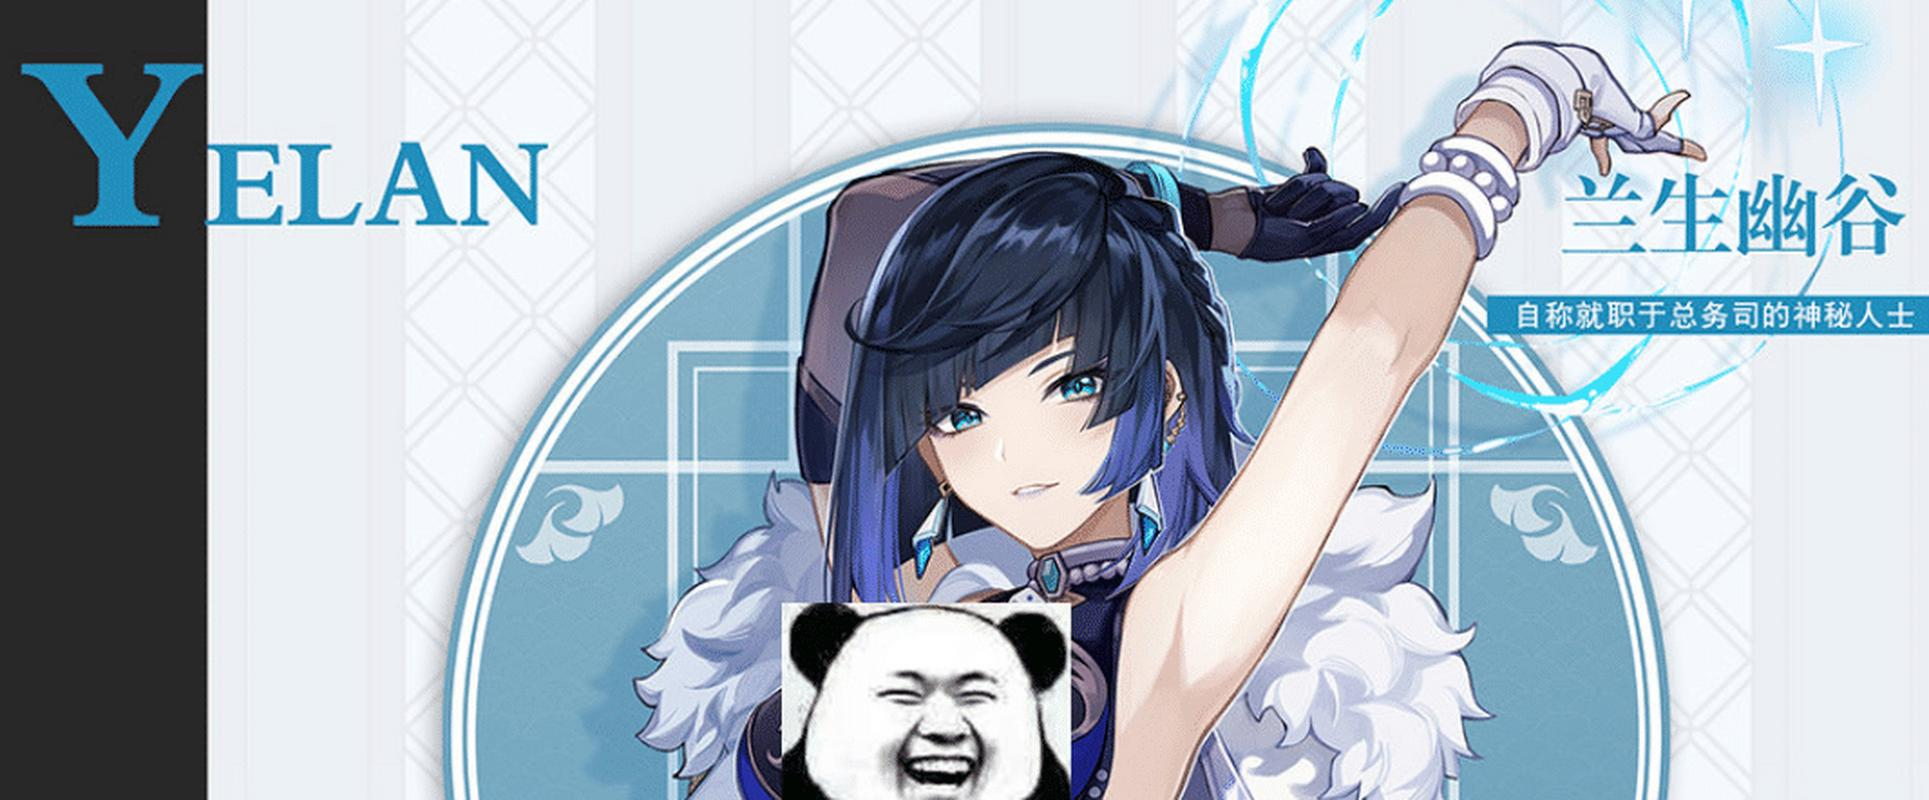夜兰: (734, 39, 1712, 800)
